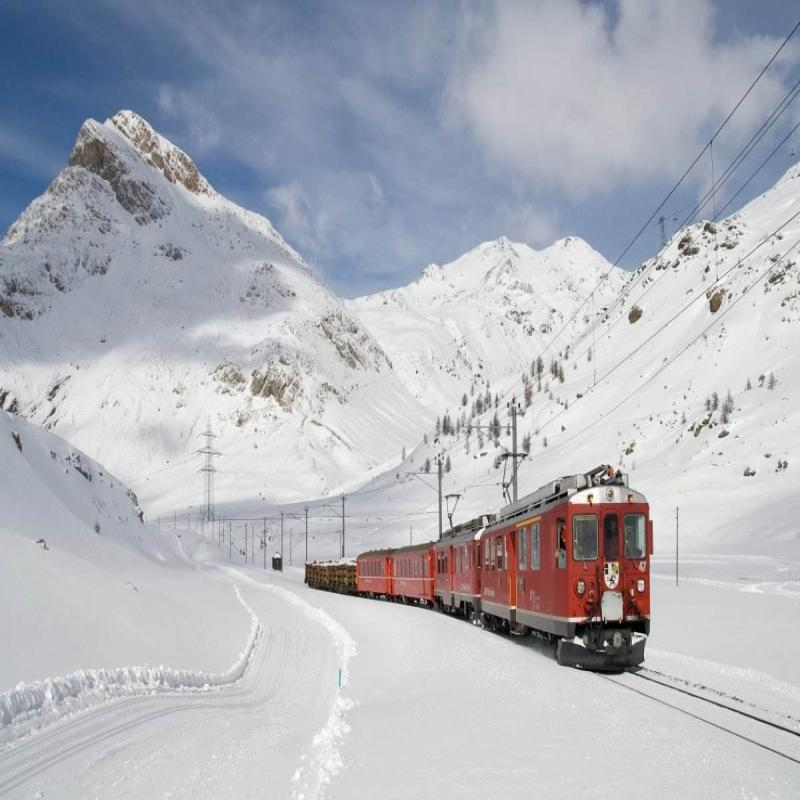train: (361, 516, 659, 685)
